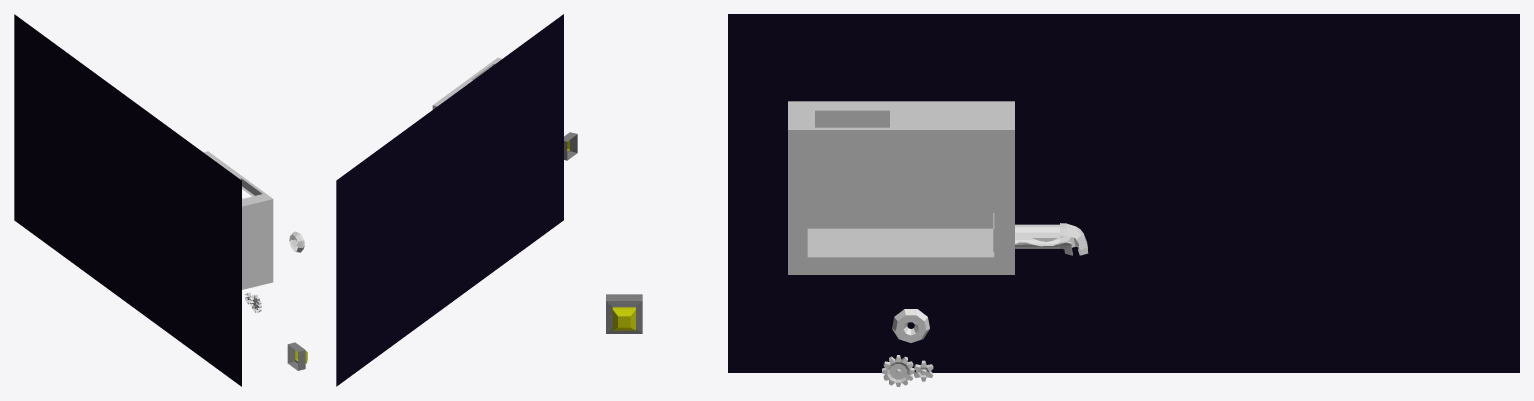
File: level01_2.fbx
3 views of the same model, side by side, from view 1: azimuth 30°, elevation 25°; view 2: azimuth 150°, elevation 25°; view 3: azimuth 270°, elevation 25° (orthographic). The views are drawn at different scales.
Parts seen in each view (by area): view 1: back_plane, room, button_holder, Torus; view 2: back_plane, room, button_holder; view 3: back_plane, room, pipe_I, Torus, button_holder, gear12.
Boxes of the visible parts, x1,y1,x2,y2 form: back_plane: [14, 14, 241, 386]; room: [203, 151, 273, 289]; button_holder: [287, 342, 305, 370]; Torus: [289, 231, 304, 252]; back_plane: [336, 14, 563, 386]; room: [432, 57, 502, 109]; button_holder: [564, 132, 577, 160]; back_plane: [728, 14, 1519, 372]; room: [788, 101, 1014, 274]; pipe_I: [1015, 224, 1060, 248]; Torus: [892, 309, 929, 342]; button_holder: [606, 294, 642, 333]; gear12: [882, 355, 914, 386].
Bounding box in the file's own units: 1922 × 3407 × 7862.
